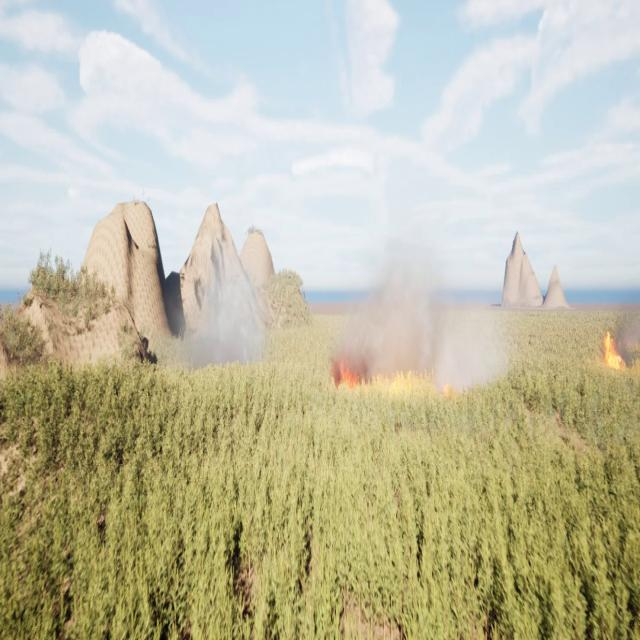fire: (330, 354, 361, 386), (601, 330, 624, 370)
smoke: (325, 252, 500, 396), (176, 257, 263, 368), (616, 322, 640, 368)
